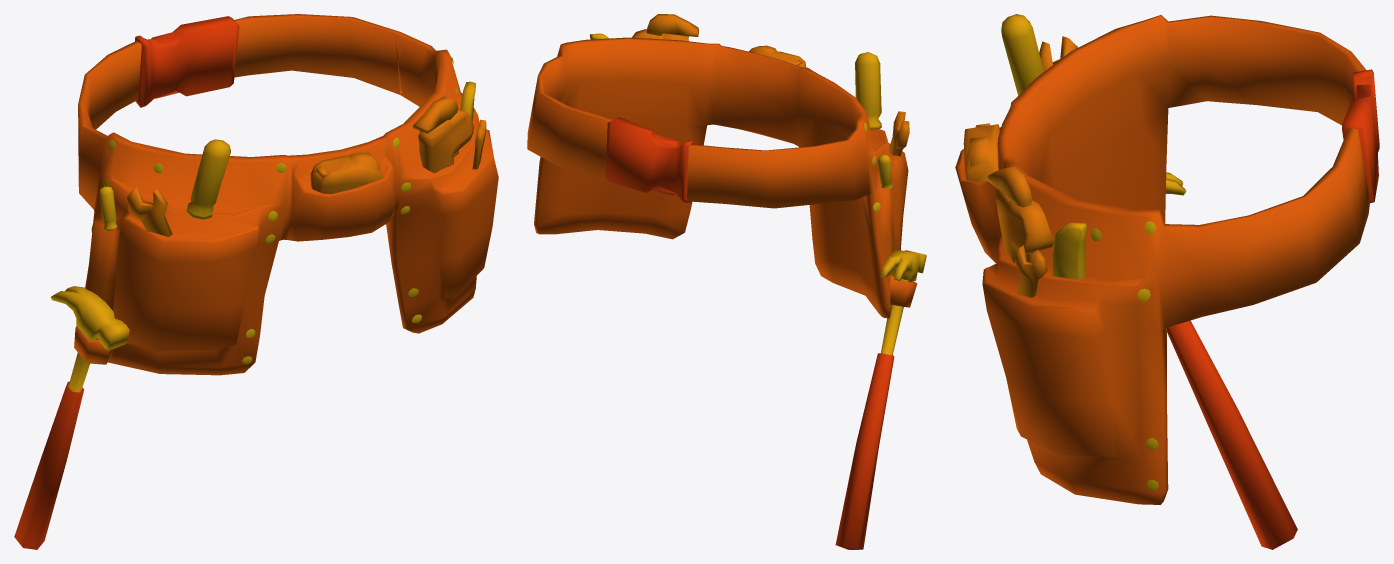
Rendered from coldrefem1.glb.
3 views of the same model, side by side, from view 1: azimuth 30°, elevation 25°; view 2: azimuth 150°, elevation 25°; view 3: azimuth 270°, elevation 25° (orthographic). The views are drawn at different scales.
Visible parts, largest first — view 1: hash_8D6E2A3D.model; view 2: hash_8D6E2A3D.model; view 3: hash_8D6E2A3D.model.
Boxes of the visible parts, <box> form: hash_8D6E2A3D.model: <box>14,14,498,549</box>; hash_8D6E2A3D.model: <box>527,14,926,549</box>; hash_8D6E2A3D.model: <box>955,14,1379,549</box>.
Bounding box in the file's own units: 0.4791 × 0.5084 × 0.3363.
